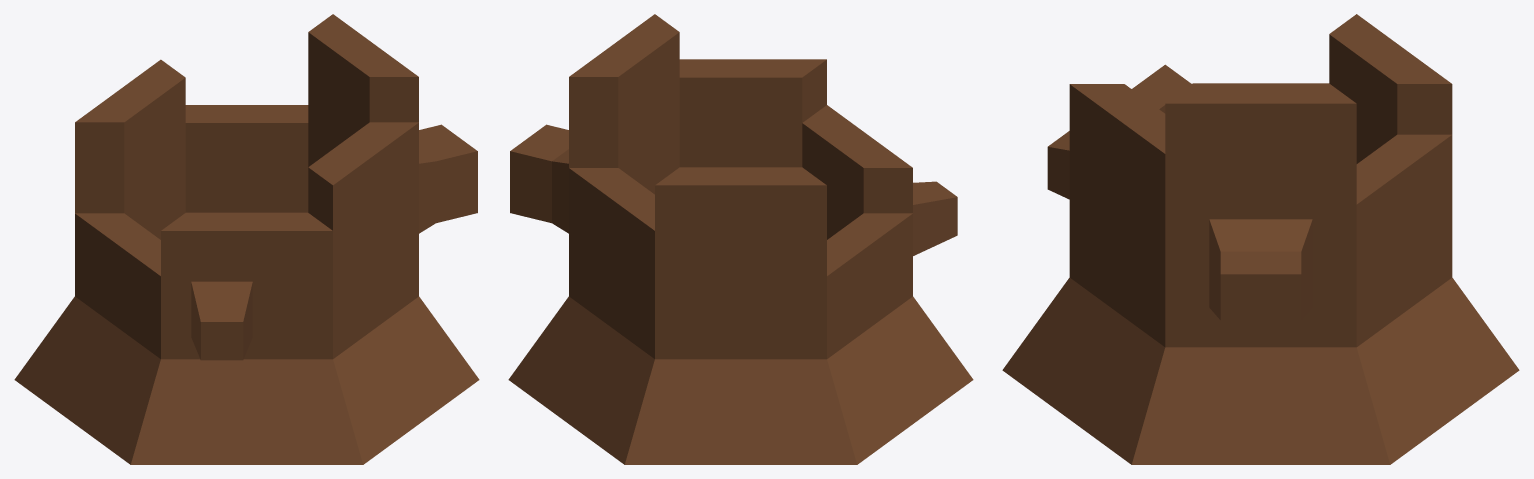
File: kenney_stump_old.glb
3 views of the same model, side by side, from view 1: azimuth 30°, elevation 25°; view 2: azimuth 150°, elevation 25°; view 3: azimuth 270°, elevation 25° (orthographic). The views are drawn at different scales.
Visible parts, largest first — view 1: bark; view 2: bark; view 3: bark.
Boxes of the visible parts, box(x1,y1,x2,y2) form: bark: box(14, 14, 479, 464); bark: box(508, 14, 973, 464); bark: box(1002, 14, 1519, 464).
Bounding box in the file's own units: 0.3565 × 0.2665 × 0.371.
